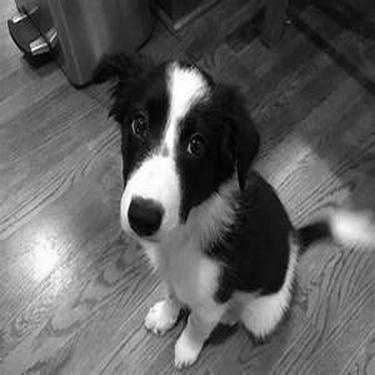dog: (92, 33, 372, 372)
